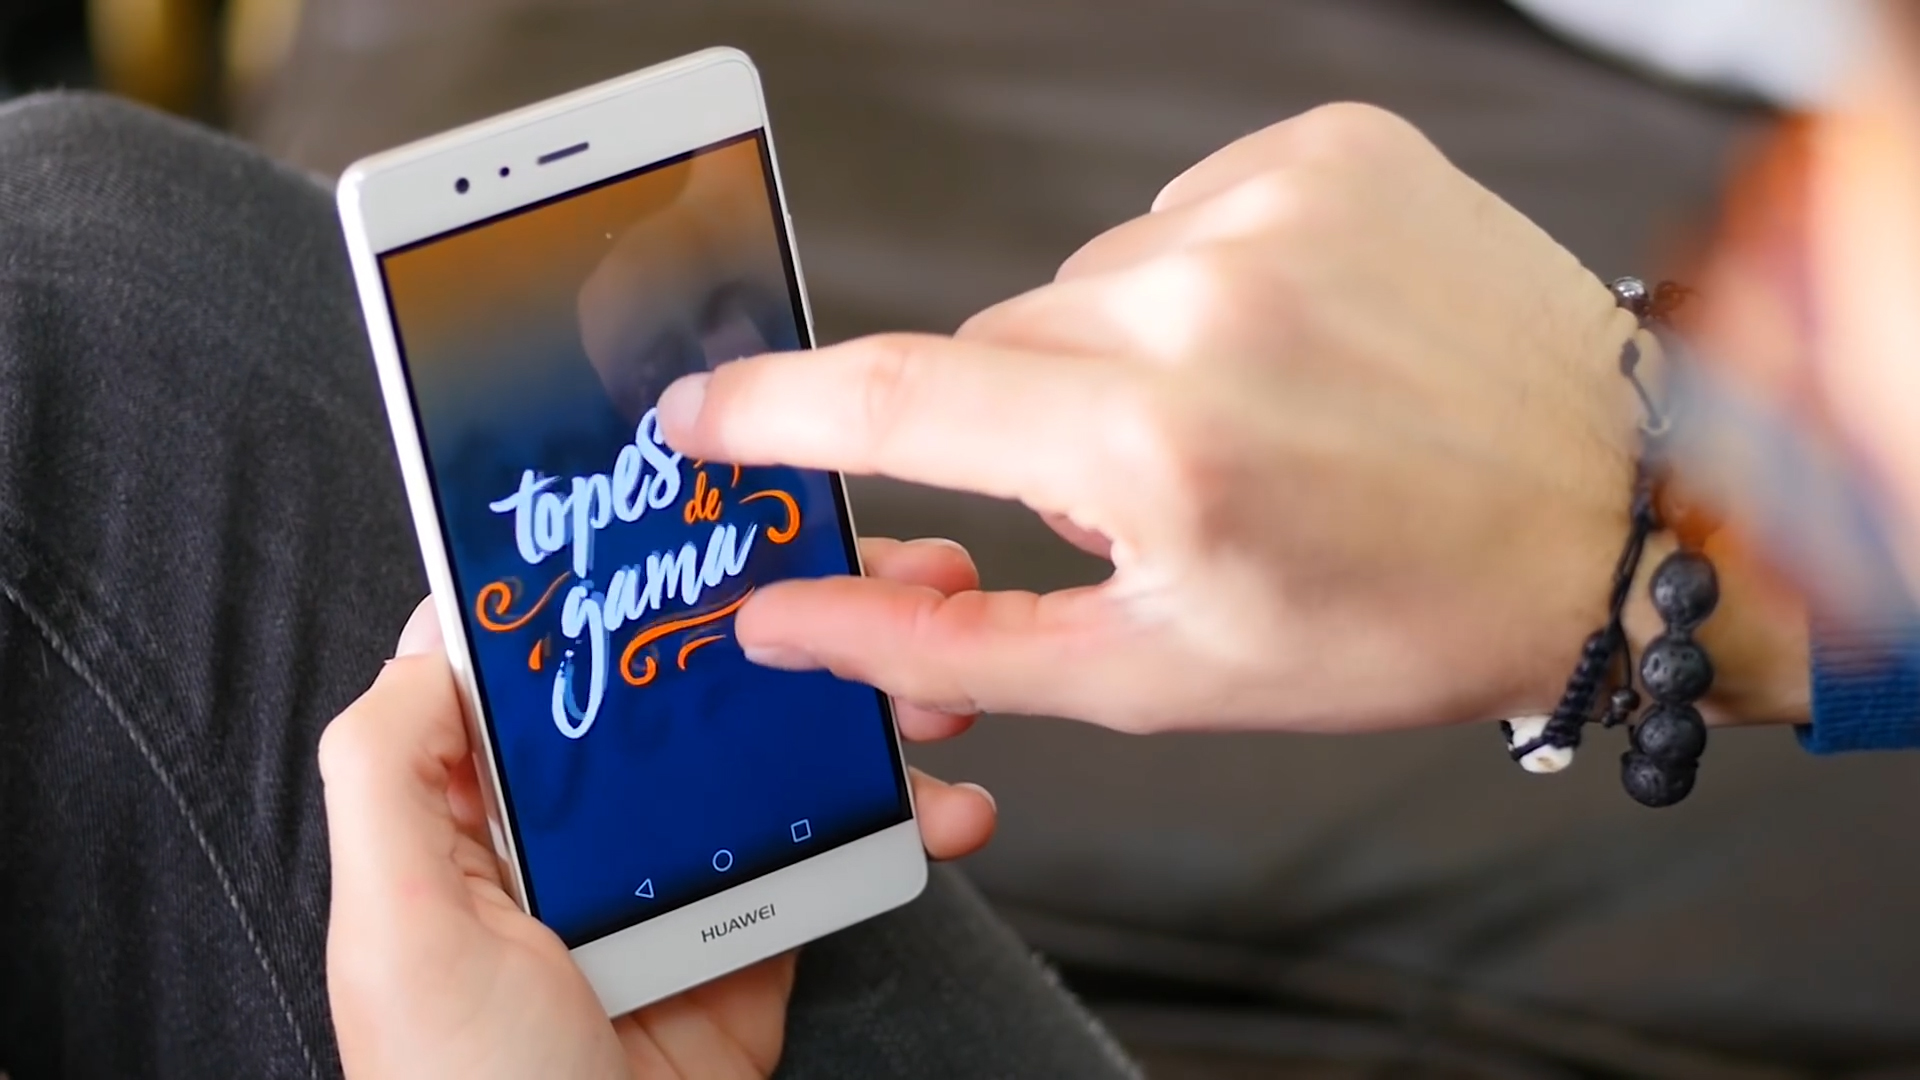smartphone: (327, 37, 940, 1035)
